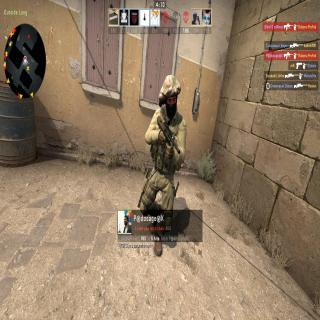CT-Body: (145, 71, 188, 210)
CT-Head: (152, 76, 178, 112)
